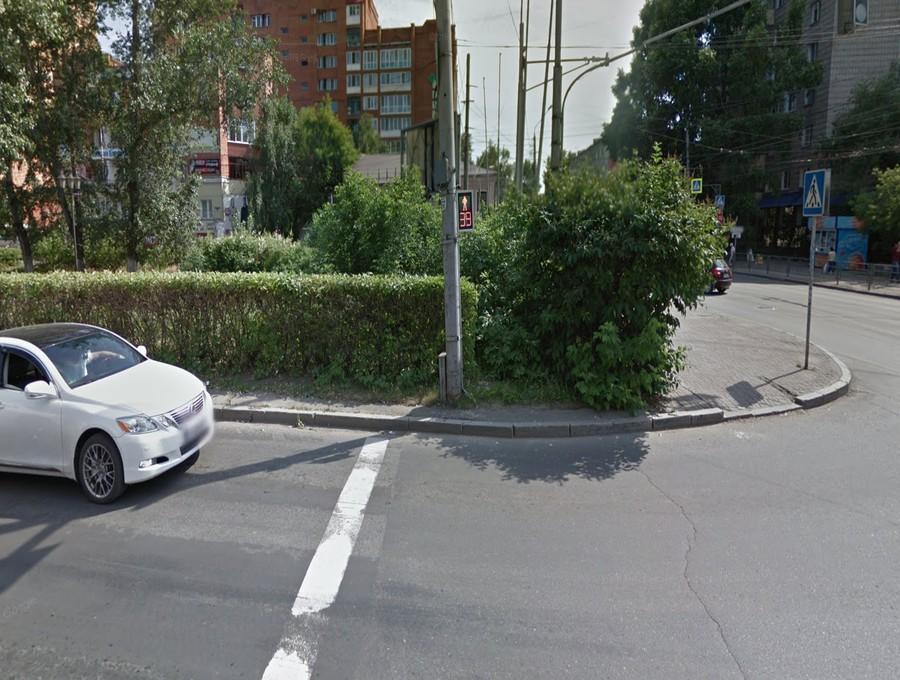Traffic Light-red: (455, 191, 476, 233)
